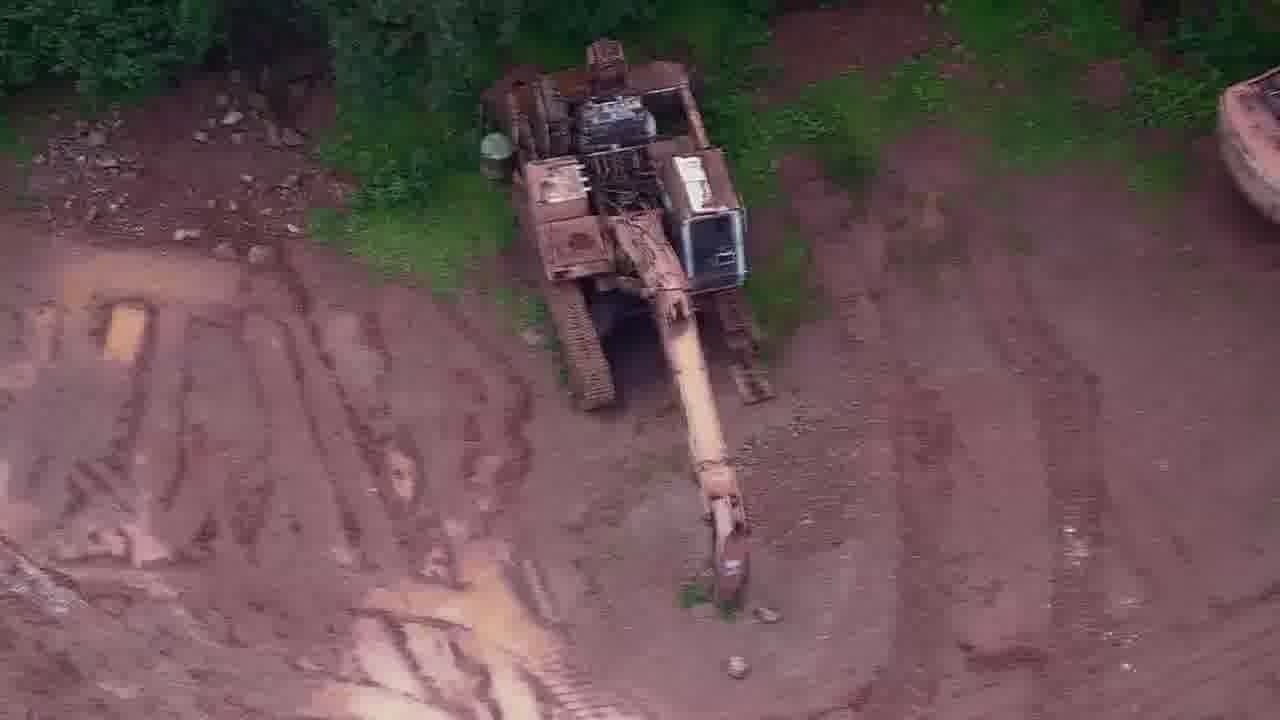HMV: (489, 32, 772, 601)
